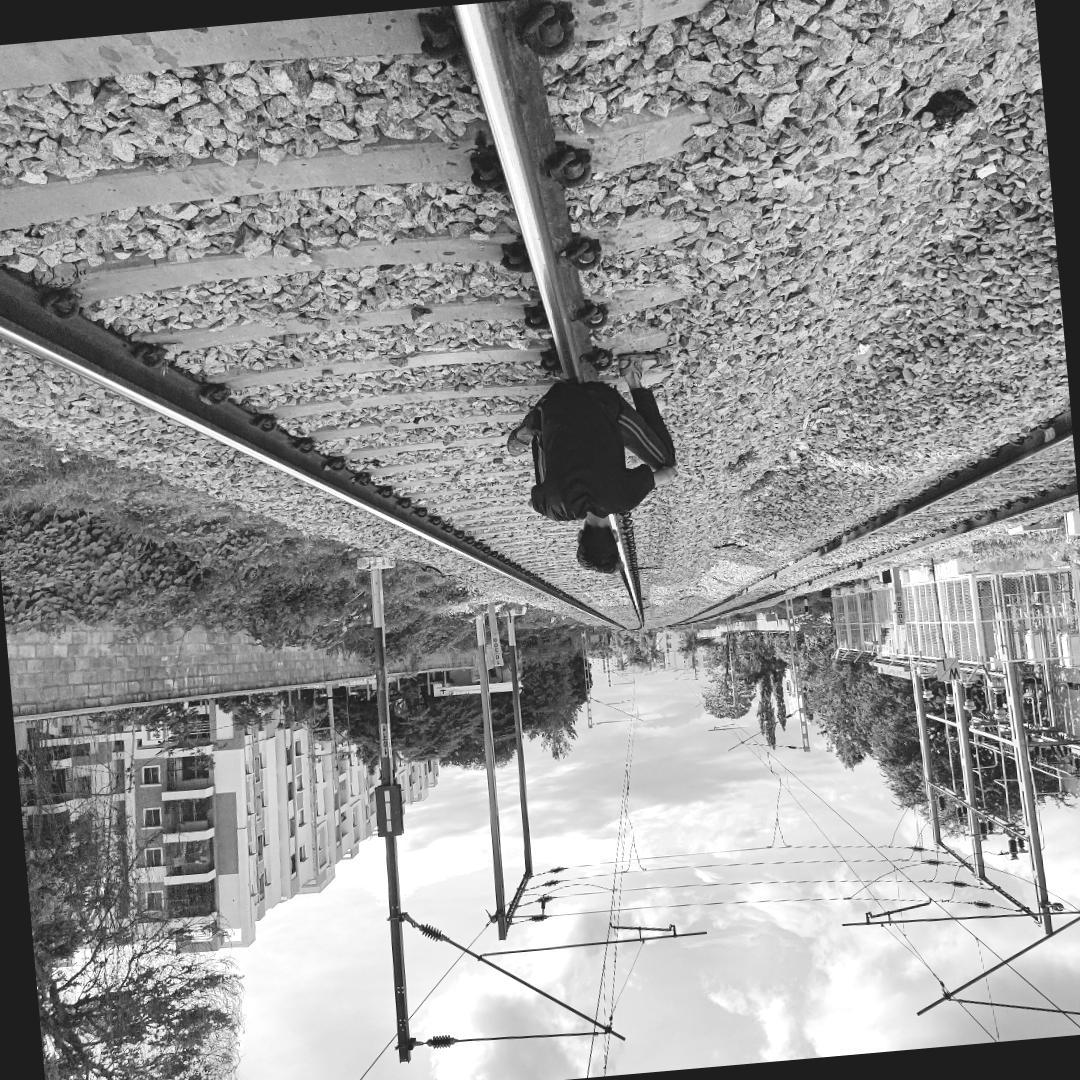sitting: (495, 339, 698, 581)
